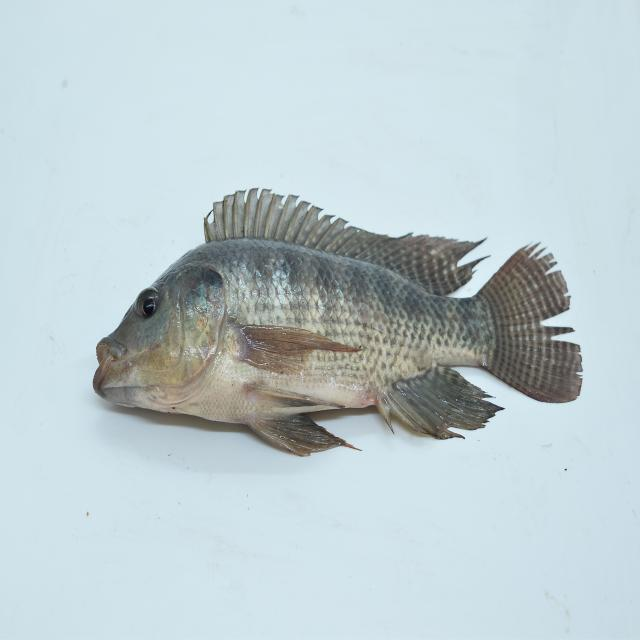Healthy Fish: (92, 184, 587, 455)
